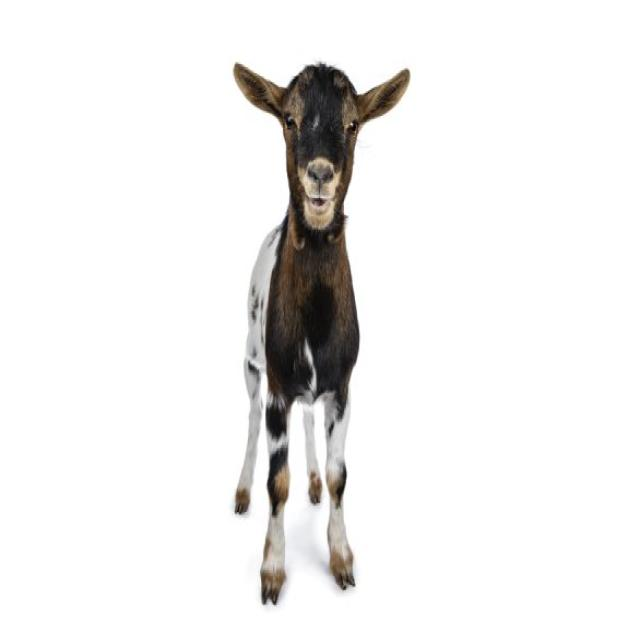Goat: (231, 56, 410, 614)
